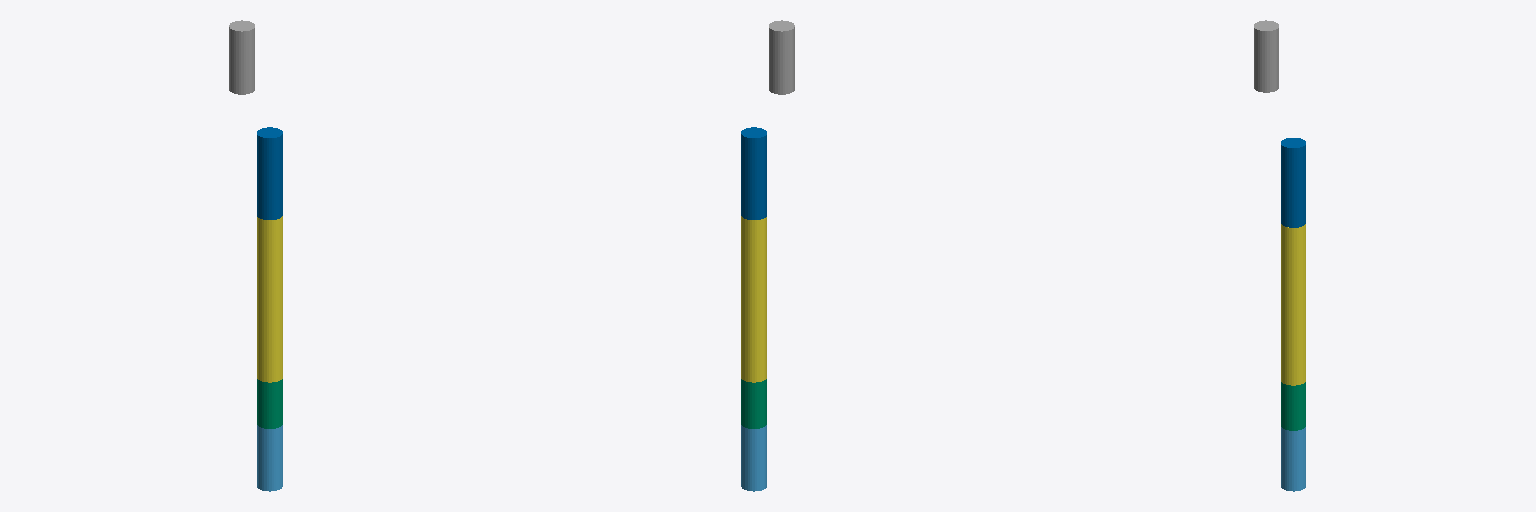
robot.urdf — at6x:
<?xml version="1.0"?>
<robot name ="at6x">

  <!-- Used for fixing robot to Gazebo 'base_link' -->
  <link name="world"/>

  <joint name="fixed" type="fixed">
    <parent link="world"/>
    <child link="link_1"/>
  </joint>
  
  <link name = "link_1">
    <collision>
      <geometry>
        <cylinder length="0.10" radius="0.03"/>
      </geometry>    
    </collision>
    <visual>
      <geometry>
        <cylinder length="0.1579" radius="0.03"/>
      </geometry>
      <origin xyz="0 0 0.07895"/>
    </visual>
    <inertial>
      <origin xyz="0 0 0.015856" rpy="0 0 0"/>
      <mass value="0.7872084" />
      <inertia 
        ixx="0.001292" ixy="0" ixz="0"
        iyy="0.001292" iyz="0"
        izz="0.0009778" />
    </inertial>       
  </link>	
  <link name="link_2">
    <visual>
      <geometry>
        <cylinder length="0.1176" radius="0.03"/>
      </geometry>
      <origin xyz="0 0 0.0588"/>
    </visual>
    <inertial>
      <origin xyz="0 0 0.015856" rpy="0 0 0"/>
      <mass value="0.7872084" />
      <inertia 
        ixx="0.001292" ixy="0" ixz="0"
        iyy="0.001292" iyz="0"
        izz="0.0009778" />
    </inertial>    
  </link>
  <link name="link_3">
    <visual>
      <geometry>
        <cylinder length="0.41" radius="0.03"/>
      </geometry>
      <origin xyz="0 0 0.205"/>
    </visual>
    <inertial>
      <origin xyz="0 0 0.107828" rpy="0 0 0"/>
      <mass value="1.205432" />
      <inertia 
        ixx="0.02248" ixy="0" ixz="0"
        iyy="0.02248" iyz="0"
        izz="0.001777" />
    </inertial>  
  </link>
  <link name="link_4">
    <visual>
      <geometry>
        <cylinder length="0.2073" radius="0.03"/>
      </geometry>
      <origin xyz="0 0 0.10385"/>
    </visual>
    <inertial>
      <origin xyz="0 0 0.037043" rpy="0 0 0"/>
      <mass value="0.89128" />
      <inertia 
        ixx="0.003968" ixy="0" ixz="0"
        iyy="0.003968" iyz="0"
        izz="0.001177" />
    </inertial>  
  </link>
  <link name="link_5">
    <visual>
      <geometry>
        <mesh filename="package://armms_description/meshes/at6x_wrist.STL"/>
      </geometry>
      <origin rpy ="0 3.14 -1.57" xyz="0 0 0"/>
    </visual>
    <inertial>
      <origin xyz="0 0 0.00863" rpy="0 0 0"/>
      <mass value="0.471842" />
      <inertia 
        ixx="0.0004611" ixy="0" ixz="0"
        iyy="0.0004611" iyz="0"
        izz="0.0005721" />
    </inertial>  
  </link>
  <link name="link_6">
    <visual>
      <geometry>
        <mesh filename="package://armms_description/meshes/at6x_wrist.STL"/>
      </geometry>
      <origin rpy="0 3.14 1.57" xyz="0 0 0"/>
    </visual>
    <inertial>
      <origin xyz="0 0 0.00863" rpy="0 0 0"/>
      <mass value="0.471842" />
      <inertia 
        ixx="0.0004611" ixy="0" ixz="0"
        iyy="0.0004611" iyz="0"
        izz="0.0005721" />
    </inertial>  
  </link>
  <link name="effector">
    <visual>
      <geometry>
        <cylinder length="0.16" radius="0.03"/>
      </geometry>
      <origin xyz="0 0 0.080"/>
    </visual>
    <inertial>
      <origin xyz="0 0 0.032496" rpy="0 0 0"/>
      <mass value="0.604973" />
      <inertia 
        ixx="0.001890" ixy="0" ixz="0"
        iyy="0.001890" iyz="0"
        izz="0.0008264" />
    </inertial>  
  </link>
  <joint name="joint_1" type="continuous">
    <axis xyz="0 0 1"/>
    <limit effort ="12" velocity="12.2"/>
    <origin rpy="0 0 0" xyz="0 0 0.1579" />
    <parent link="link_1"/>
    <child link="link_2"/>
  </joint>
  <joint name="joint_2" type="continuous">
    <axis xyz="1 0 0"/>
    <limit effort ="12" velocity="12.2"/>
    <origin rpy="0 0 0" xyz="0 0 0.1176" />
    <parent link="link_2"/>
    <child link="link_3"/>
  </joint>
  <joint name="joint_3" type="continuous">
    <axis xyz="1 0 0"/>
    <limit effort ="12" velocity="12.2"/>
    <origin rpy="0 0 0" xyz="0 0 0.41" />
    <parent link="link_3"/>
    <child link="link_4"/>
  </joint>
  <joint name="joint_4" type="continuous">
    <axis xyz="0 0 1"/>
    <limit effort ="3.6" velocity="20.3"/>
    <origin rpy="0 0 0" xyz="0 0 0.2073" />
    <parent link="link_4"/>
    <child link="link_5"/>
  </joint>
  <joint name="joint_5" type="continuous">
    <axis xyz="0 0 1"/>
    <limit effort ="3.6" velocity="20.3"/>
    <origin rpy="0 -1.0472 0" xyz="-0.038 0 0.0631" />
    <parent link="link_5"/>
    <child link="link_6"/>
  </joint>
  <joint name="joint_6" type="continuous">
    <axis xyz="0 0 1"/>
    <limit effort ="3.6" velocity="20.3"/>
    <origin rpy="0 1.0472 0" xyz="0.038 0.0 0.0631" />
    <parent link="link_6"/>
    <child link="effector"/>
  </joint>

  <transmission name="trans_1">
    <type>transmission_interface/SimpleTransmission</type>
    <joint name="joint_1">
      <hardwareInterface>hardware_interface/EffortJointInterface</hardwareInterface>
    </joint>
    <actuator name="motor_1">
      <hardwareInterface>hardware_interface/EffortJointInterface</hardwareInterface>
      <mechanicalReduction>1</mechanicalReduction>
    </actuator>
  </transmission>

  <transmission name="trans_2">
    <type>transmission_interface/SimpleTransmission</type>
    <joint name="joint_2">
      <hardwareInterface>hardware_interface/EffortJointInterface</hardwareInterface>
    </joint>
    <actuator name="motor_2">
      <hardwareInterface>hardware_interface/EffortJointInterface</hardwareInterface>
      <mechanicalReduction>1</mechanicalReduction>
    </actuator>
  </transmission>

  <transmission name="trans_3">
    <type>transmission_interface/SimpleTransmission</type>
    <joint name="joint_3">
      <hardwareInterface>hardware_interface/EffortJointInterface</hardwareInterface>
    </joint>
    <actuator name="motor_3">
      <hardwareInterface>hardware_interface/EffortJointInterface</hardwareInterface>
      <mechanicalReduction>1</mechanicalReduction>
    </actuator>
  </transmission>
  
  <transmission name="trans_4">
    <type>transmission_interface/SimpleTransmission</type>
    <joint name="joint_4">
      <hardwareInterface>hardware_interface/EffortJointInterface</hardwareInterface>
    </joint>
    <actuator name="motor_4">
      <hardwareInterface>hardware_interface/EffortJointInterface</hardwareInterface>
      <mechanicalReduction>1</mechanicalReduction>
    </actuator>
  </transmission>
  
  <transmission name="trans_5">
    <type>transmission_interface/SimpleTransmission</type>
    <joint name="joint_5">
      <hardwareInterface>hardware_interface/EffortJointInterface</hardwareInterface>
    </joint>
    <actuator name="motor_5">
      <hardwareInterface>hardware_interface/EffortJointInterface</hardwareInterface>
      <mechanicalReduction>1</mechanicalReduction>
    </actuator>
  </transmission>
  
  <transmission name="trans_6">
    <type>transmission_interface/SimpleTransmission</type>
    <joint name="joint_6">
      <hardwareInterface>hardware_interface/EffortJointInterface</hardwareInterface>
    </joint>
    <actuator name="motor_6">
      <hardwareInterface>hardware_interface/EffortJointInterface</hardwareInterface>
      <mechanicalReduction>1</mechanicalReduction>
    </actuator>
  </transmission>  

  <gazebo>
    <plugin name="gazebo_ros_control" filename="libgazebo_ros_control.so">
    <robotNamespace>/at6x</robotNamespace>
    </plugin>
  </gazebo> 
  
</robot>      

--- Render facts (derived) ---
3 views of the same robot in one strip: view 1: azimuth 30°, elevation 25°; view 2: azimuth 150°, elevation 25°; view 3: azimuth 330°, elevation 25° (orthographic).
Model at6x with 8 links and 7 joints (6 continuous, 1 fixed), rooted at world, posed all joints at 0.
Links seen in each view (by area): view 1: link_3, link_4, effector, link_1, link_2; view 2: link_3, link_4, effector, link_1, link_2; view 3: link_3, link_4, effector, link_1, link_2.
Link boxes in pixels (x1=…): link_3: x1=257, y1=216, x2=282, y2=382; link_4: x1=257, y1=127, x2=282, y2=219; effector: x1=229, y1=20, x2=254, y2=94; link_1: x1=257, y1=425, x2=282, y2=491; link_2: x1=257, y1=379, x2=282, y2=428; link_3: x1=741, y1=216, x2=766, y2=382; link_4: x1=741, y1=127, x2=766, y2=219; effector: x1=769, y1=20, x2=794, y2=94; link_1: x1=741, y1=425, x2=766, y2=491; link_2: x1=741, y1=379, x2=766, y2=428; link_3: x1=1281, y1=224, x2=1305, y2=385; link_4: x1=1281, y1=138, x2=1305, y2=227; effector: x1=1254, y1=20, x2=1278, y2=92; link_1: x1=1281, y1=427, x2=1305, y2=491; link_2: x1=1281, y1=382, x2=1305, y2=430.
Size in the robot's own frame: 0.1336 by 0.06 by 1.18 metres.
Meshes: 1 distinct files referenced, 0 mesh visuals loaded (none loaded); not drawn: 2 (reference not matched to a file when rendering).
